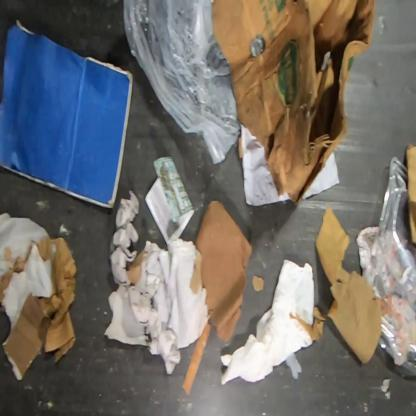cardboard: (212, 0, 378, 209), (0, 19, 134, 213), (126, 200, 254, 397), (290, 208, 388, 363), (0, 236, 78, 384), (252, 274, 266, 292)
rigid_plastic: (364, 153, 415, 379)
soft_plastic: (122, 0, 242, 166)
